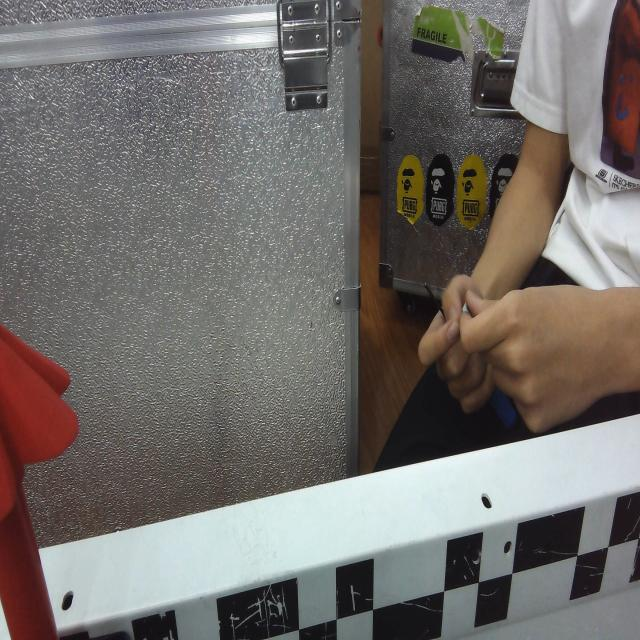zred-Stake-Head: (0, 323, 79, 523)
